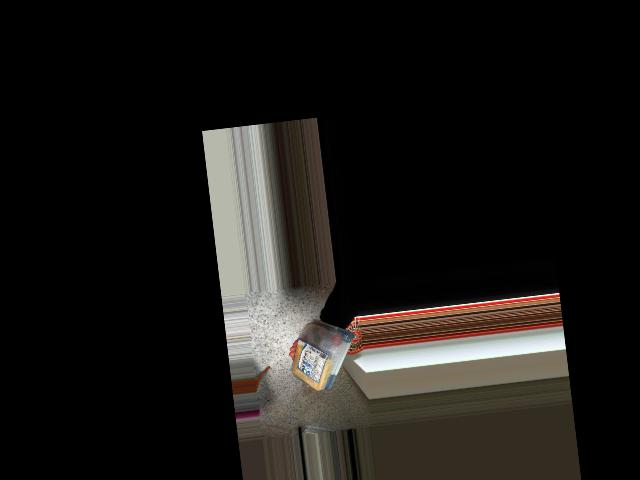cheese: (280, 311, 365, 399)
